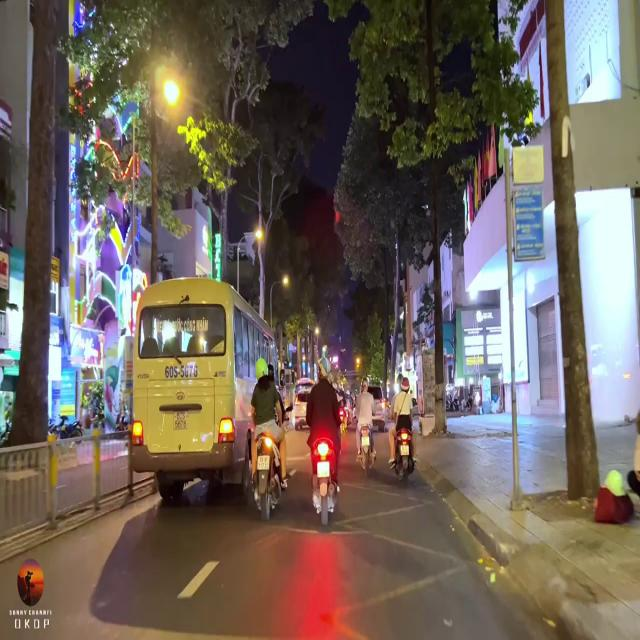bien_trang: (173, 412, 188, 431)
